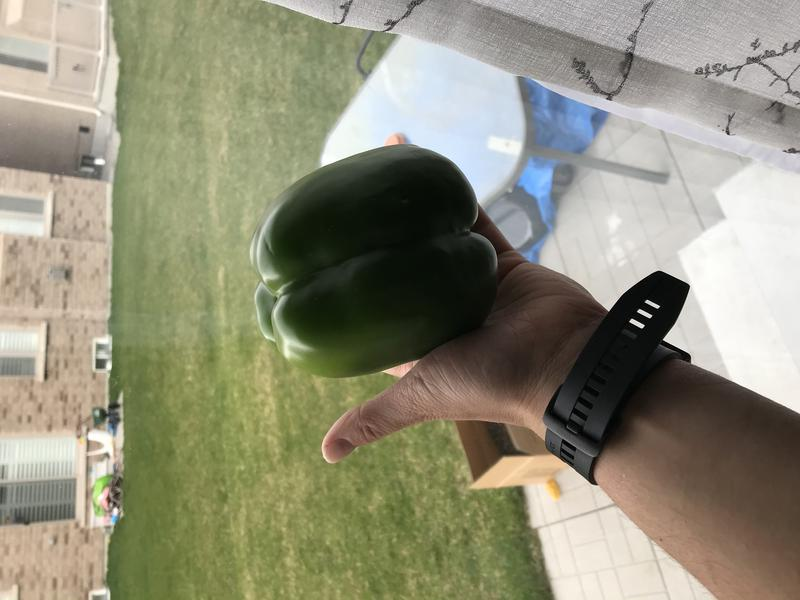green_pepper: (232, 134, 518, 381)
